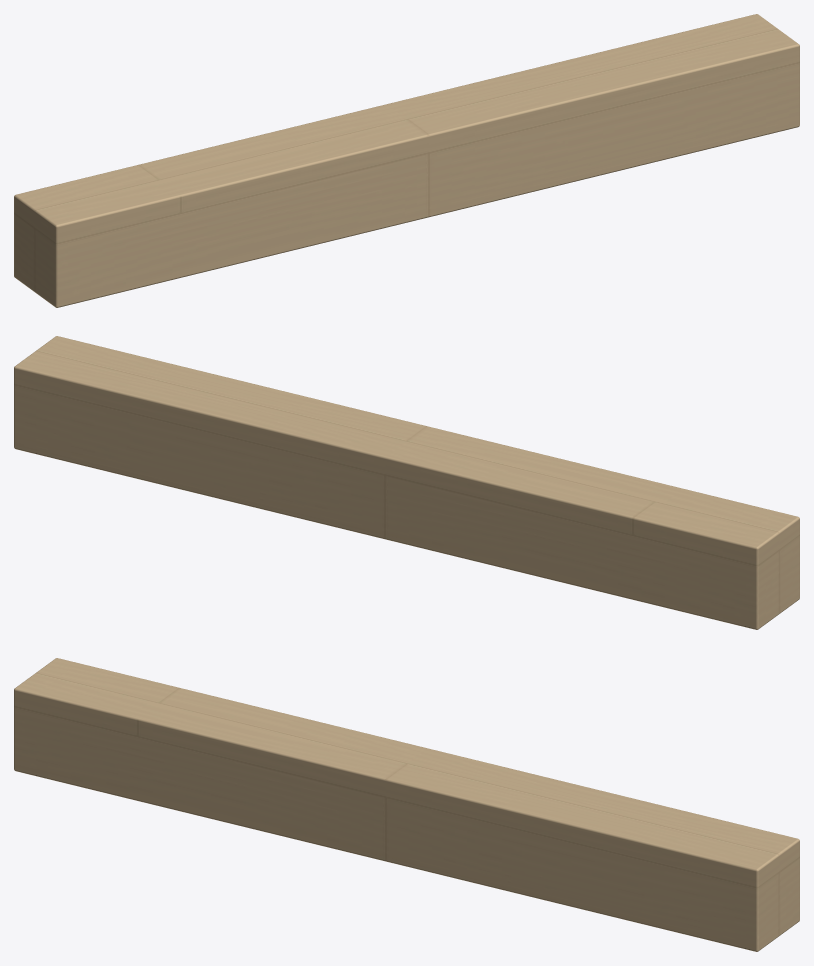
The model's file is cutaway-plinth-v1.glb.
3 renders of one model, top to bottom at view 1: azimuth 30°, elevation 25°; view 2: azimuth 150°, elevation 25°; view 3: azimuth 330°, elevation 25°, orthographic.
Parts seen in each view (by area): view 1: Pale timber cutaway edge; view 2: Pale timber cutaway edge; view 3: Pale timber cutaway edge.
Part boxes in pixels (x1,y1,x2,y2): Pale timber cutaway edge: (14, 14, 799, 307); Pale timber cutaway edge: (14, 336, 799, 629); Pale timber cutaway edge: (14, 658, 799, 951).
Bounding box in the file's own units: 3 × 0.32 × 0.3.
Materials: 1 (1 with a texture image).
